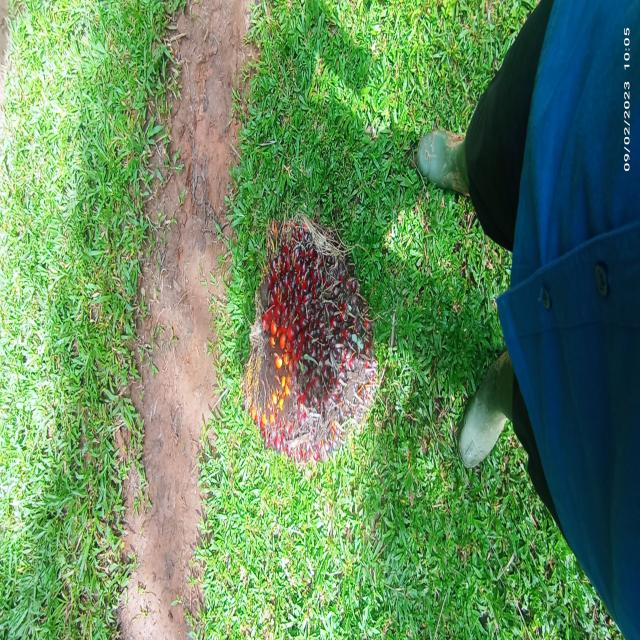fraksi 1: (232, 164, 393, 496)
